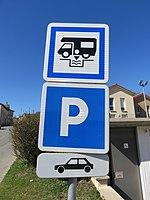Parking Lot Cars: (50, 22, 106, 176)
